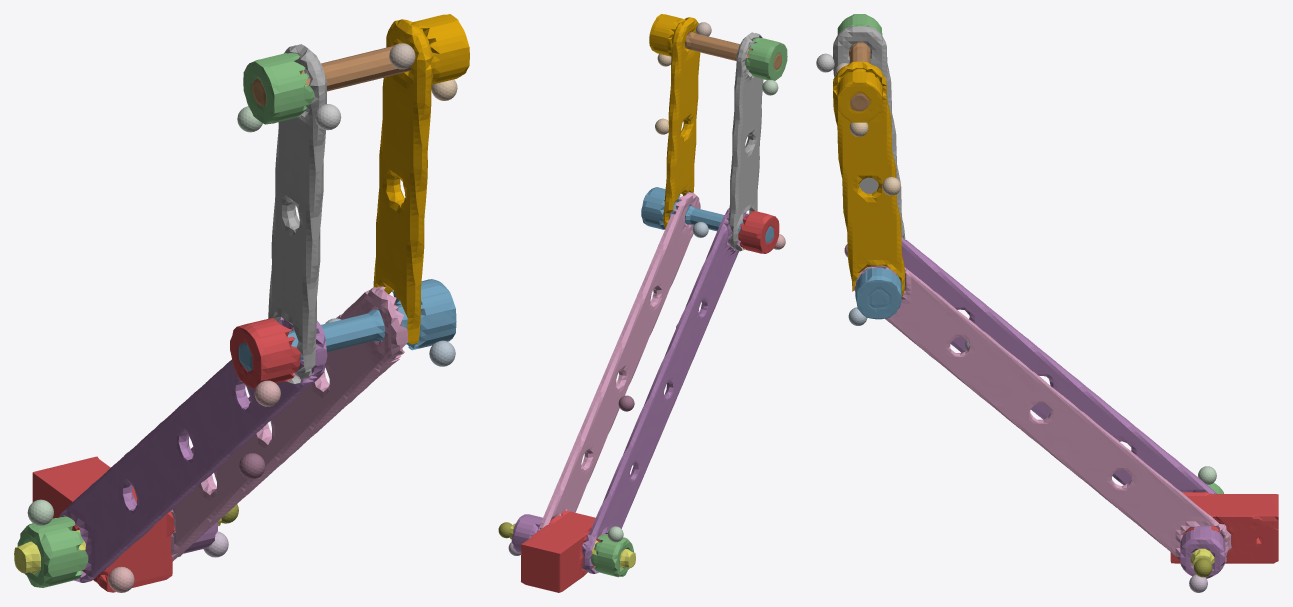
Rendered from ours.glb.
3 renders of one model, left to right at view 1: azimuth 30°, elevation 25°; view 2: azimuth 150°, elevation 25°; view 3: azimuth 270°, elevation 25°, orthographic. The views are drawn at different scales.
Parts seen in each view (by area): view 1: g3, g7, g4, g8, g0, g2, g9, g11, g6, g13, g10, g1 (+2 smaller); view 2: g7, g3, g4, g8, g0, g2, g9, g11, g6, g13, g1, g10 (+2 smaller); view 3: g7, g3, g4, g0, g8, g13, g10, g12, g6.
Boxes of the visible parts, x1,y1,x2,y2 form: g3: [58, 317, 327, 582]; g7: [171, 286, 407, 561]; g4: [373, 19, 433, 344]; g8: [268, 44, 341, 383]; g0: [32, 456, 175, 592]; g2: [237, 53, 314, 132]; g9: [230, 318, 301, 406]; g11: [17, 499, 88, 587]; g6: [252, 43, 415, 106]; g13: [411, 14, 469, 100]; g10: [392, 279, 456, 366]; g1: [238, 304, 407, 371]; g7: [537, 191, 700, 531]; g3: [582, 208, 748, 573]; g4: [655, 17, 700, 228]; g8: [728, 32, 763, 251]; g0: [520, 510, 600, 592]; g2: [745, 37, 787, 95]; g9: [738, 210, 785, 253]; g11: [590, 526, 633, 577]; g6: [685, 22, 781, 69]; g13: [649, 14, 684, 66]; g1: [669, 203, 773, 242]; g10: [641, 187, 680, 229]; g7: [854, 265, 1231, 562]; g3: [901, 235, 1217, 494]; g4: [833, 61, 904, 297]; g0: [1170, 492, 1278, 563]; g8: [816, 25, 905, 240]; g13: [836, 68, 883, 136]; g10: [848, 267, 901, 325]; g12: [1180, 525, 1225, 592]; g6: [835, 42, 870, 111].
Size of the model in its own units: 0.6344 by 1.92 by 1.56.
